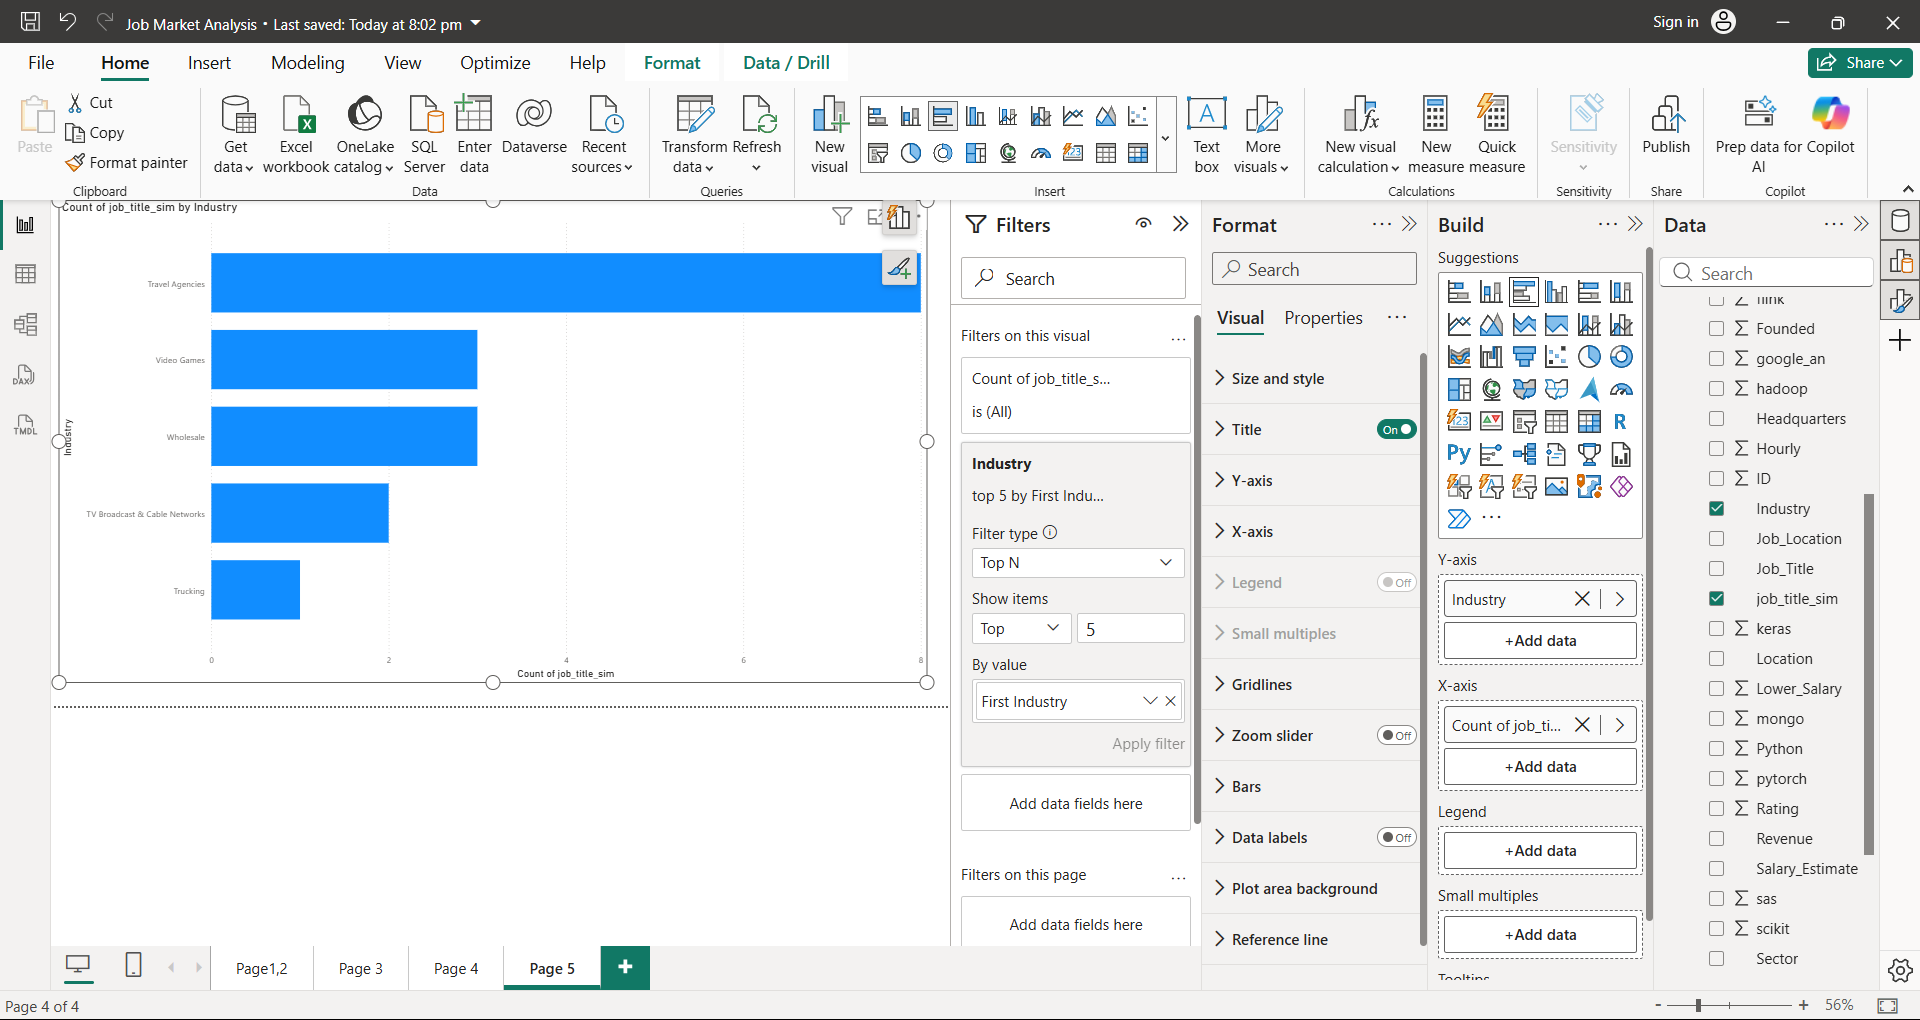

The page's visual inventory and layout, read from the dashboard file:
{"tool":"powerbi","page":{"name":"Page 5","canvas":[1280,720],"ordinal":3},"visuals":[{"type":"clusteredBarChart","fields":{"Category":["project_job_market_analysis Market.Industry"],"Y":["CountNonNull(project_job_market_analysis Market.job_title_sim)"]},"box":[10.7,0,1237,687],"z":0}]}

Visuals, with their boxes on the page's 1280x720 design canvas (x1, y1, x2, y2). These are canvas units, not pixel positions in the 1920x1020 screenshot, which may show the page scaled, cropped or inside an application window:
clusteredBarChart - project_job_market_analysis Market.Industry x CountNonNull(project_job_market_analysis Market.job_title_sim): bbox(11, 0, 1248, 687)
